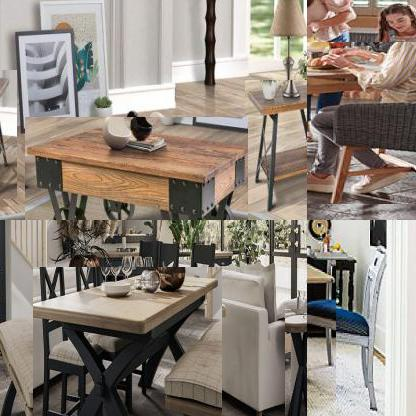table: (32, 267, 222, 415), (23, 117, 249, 219), (307, 42, 415, 206), (243, 79, 306, 215), (307, 260, 337, 413), (283, 309, 306, 415)
